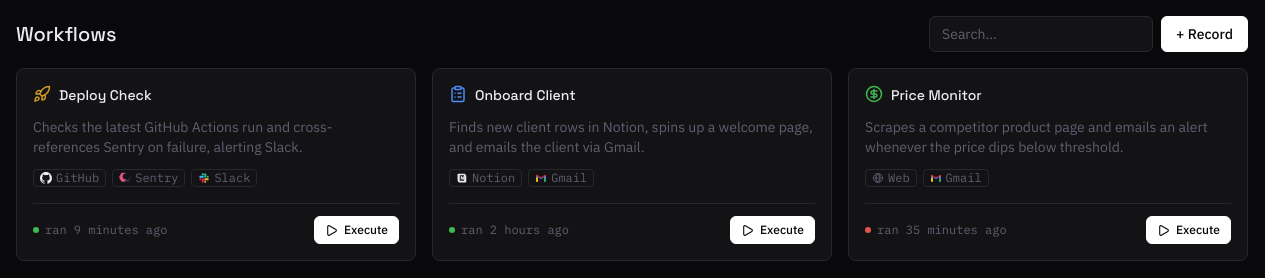
Test: search filters the grid
The image size is (1265, 278).
Type "Price" into the field with placeholder "Search…".
click(1041, 34); type("Price")  # box x1=929 y1=16 x2=1153 y2=52
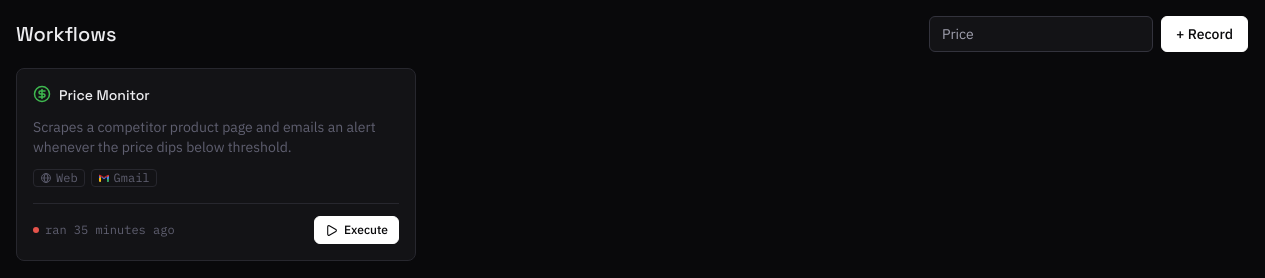
expect the heading "Price Monitor" is shown: met, box x1=59 y1=85 x2=150 y2=105
expect the link "Deploy Check" is gone: met
